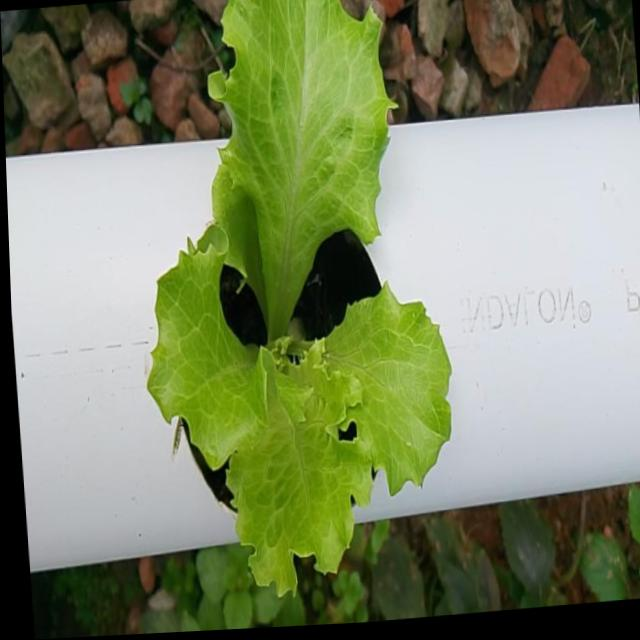Baby: (156, 0, 453, 591)
